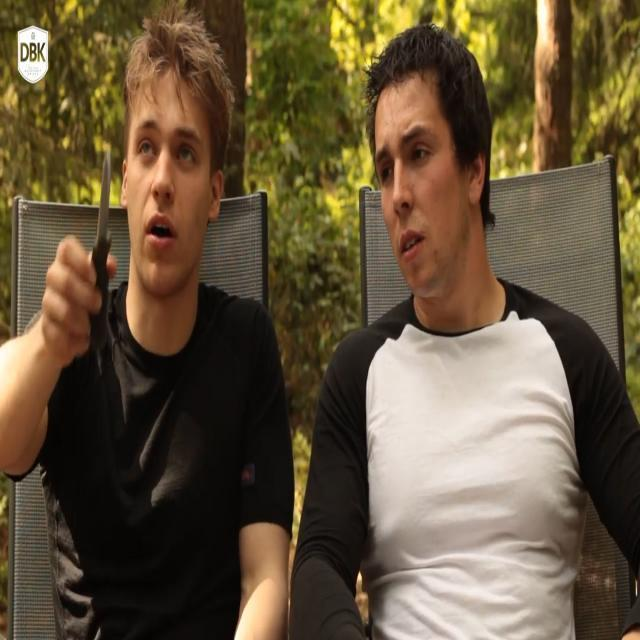faca: (70, 136, 119, 357)
